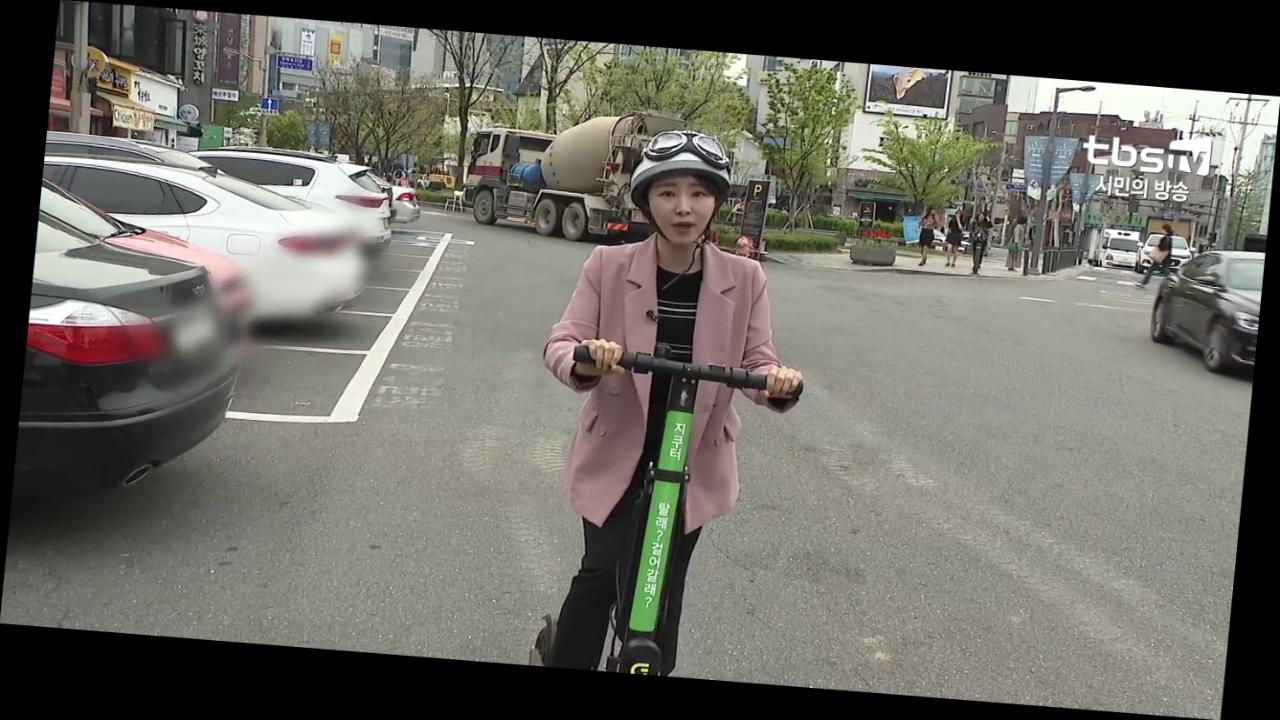helmet: (512, 122, 831, 685)
